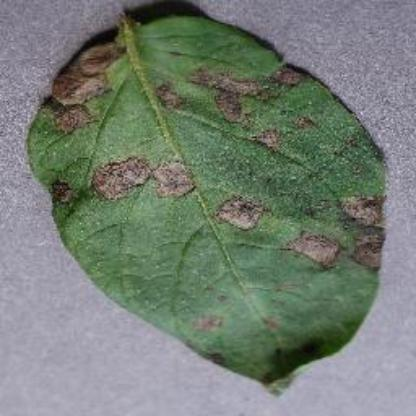Early-Blight: (26, 7, 388, 394)
